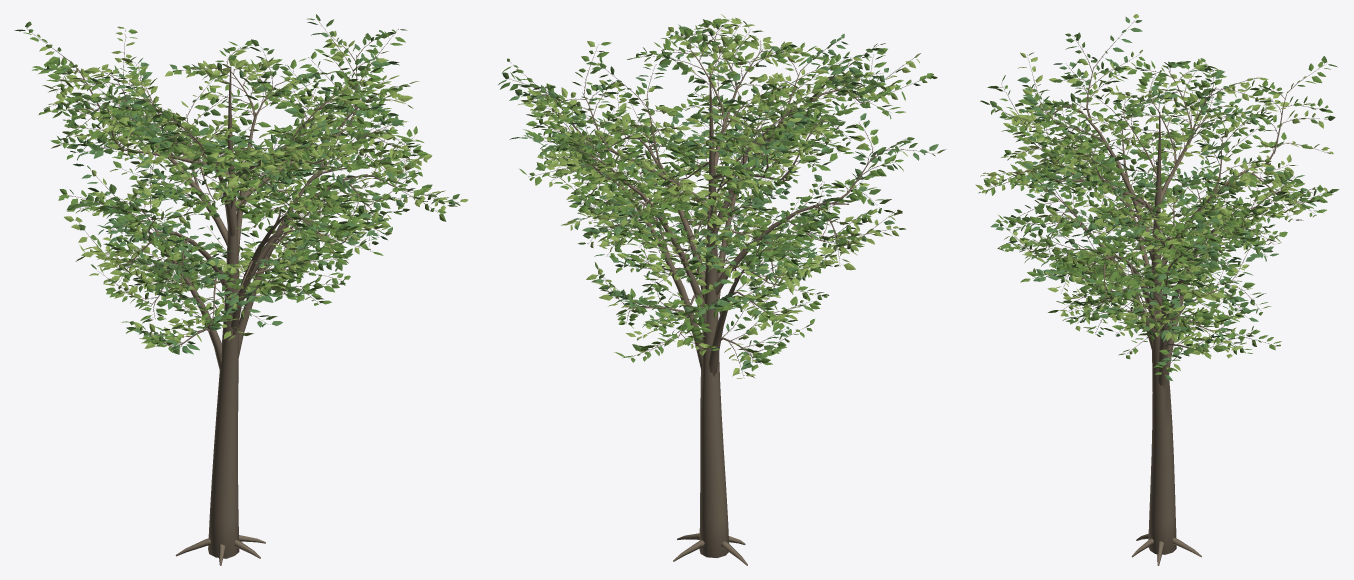
Rendered from broadleaf_spreading_high.glb.
3 renders of one model, left to right at view 1: azimuth 30°, elevation 25°; view 2: azimuth 150°, elevation 25°; view 3: azimuth 270°, elevation 25°, orthographic. The views are drawn at different scales.
Parts seen in each view (by area): view 1: broadleaf_spreading_high; view 2: broadleaf_spreading_high; view 3: broadleaf_spreading_high.
Part boxes in pixels (box(x1,y1,x2,y2)): broadleaf_spreading_high: box(14, 14, 468, 565); broadleaf_spreading_high: box(498, 14, 946, 565); broadleaf_spreading_high: box(975, 14, 1339, 565).
Size of the model in its own units: 6.37 by 8.49 by 5.9.
